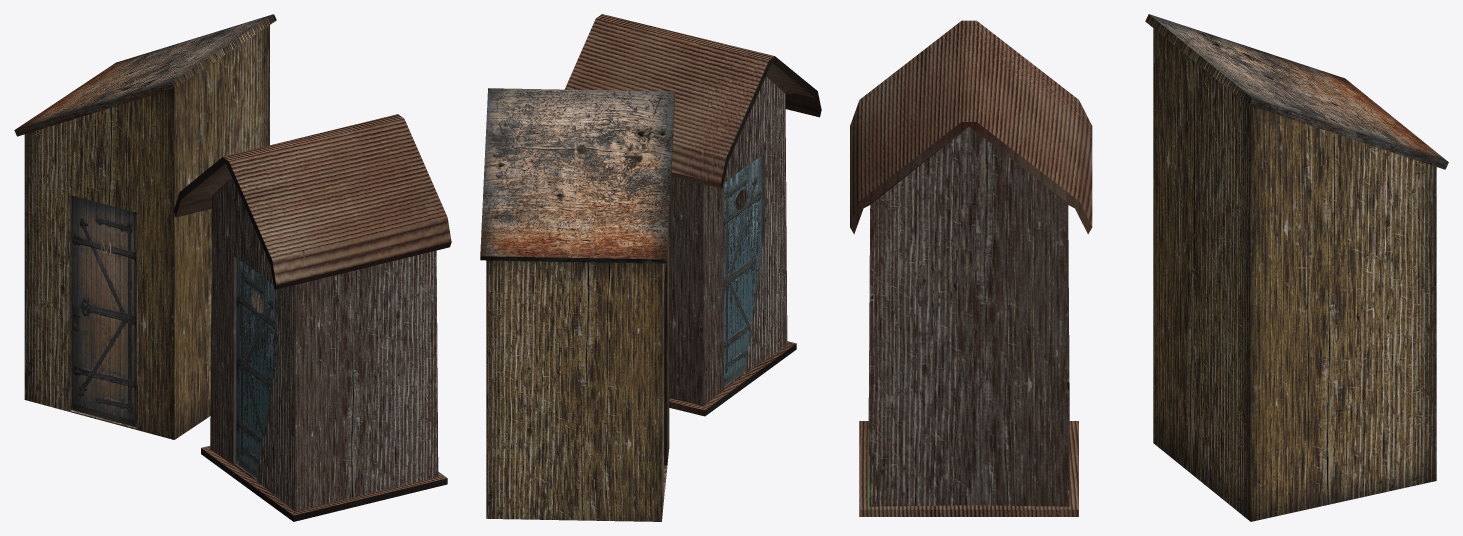
Rendered from outhouses.FBX.
The picture shows the model from 3 angles, left to right: view 1: azimuth 30°, elevation 25°; view 2: azimuth 150°, elevation 25°; view 3: azimuth 270°, elevation 25°; orthographic projection. The views are drawn at different scales.
Parts seen in each view (by area): view 1: Box001, outhouse01; view 2: outhouse01, Box001; view 3: outhouse01, Box001.
Boxes of the visible parts, bbox=[...] form: Box001: bbox=[174, 114, 451, 521]; outhouse01: bbox=[14, 14, 276, 439]; outhouse01: bbox=[480, 88, 674, 521]; Box001: bbox=[564, 14, 821, 416]; outhouse01: bbox=[1145, 14, 1448, 521]; Box001: bbox=[850, 20, 1092, 516].
Size of the model in its own units: 149 by 226 by 287.
